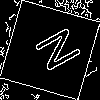N: (25, 25, 83, 79)
